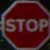Stop: (0, 3, 49, 44)
